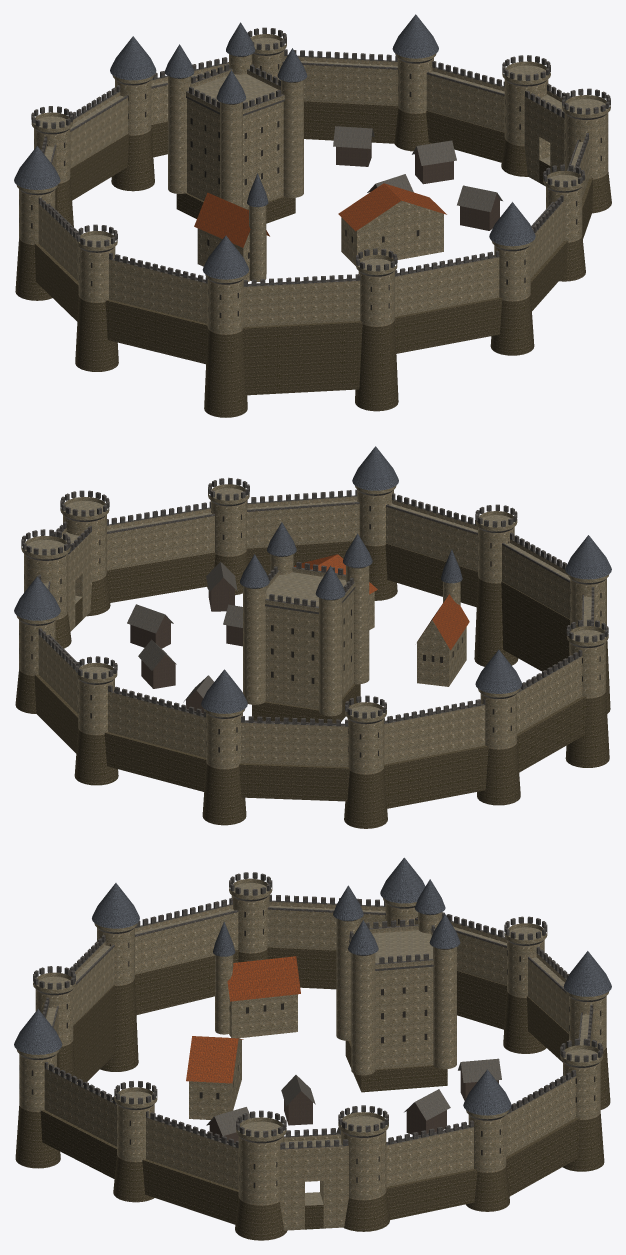
The model's file is Castle.gltf.
The picture shows the model from 3 angles, top to bottom: view 1: azimuth 30°, elevation 25°; view 2: azimuth 150°, elevation 25°; view 3: azimuth 270°, elevation 25°; orthographic projection. The views are drawn at different scales.
Visible parts, largest first — view 1: Castle; view 2: Castle; view 3: Castle.
Part boxes in pixels (<box>): Castle: <box>14,14,611,417</box>; Castle: <box>14,446,611,828</box>; Castle: <box>14,857,611,1240</box>.
Bounding box in the file's own units: 170 × 69.61 × 158.
9 materials, 8 textured.
